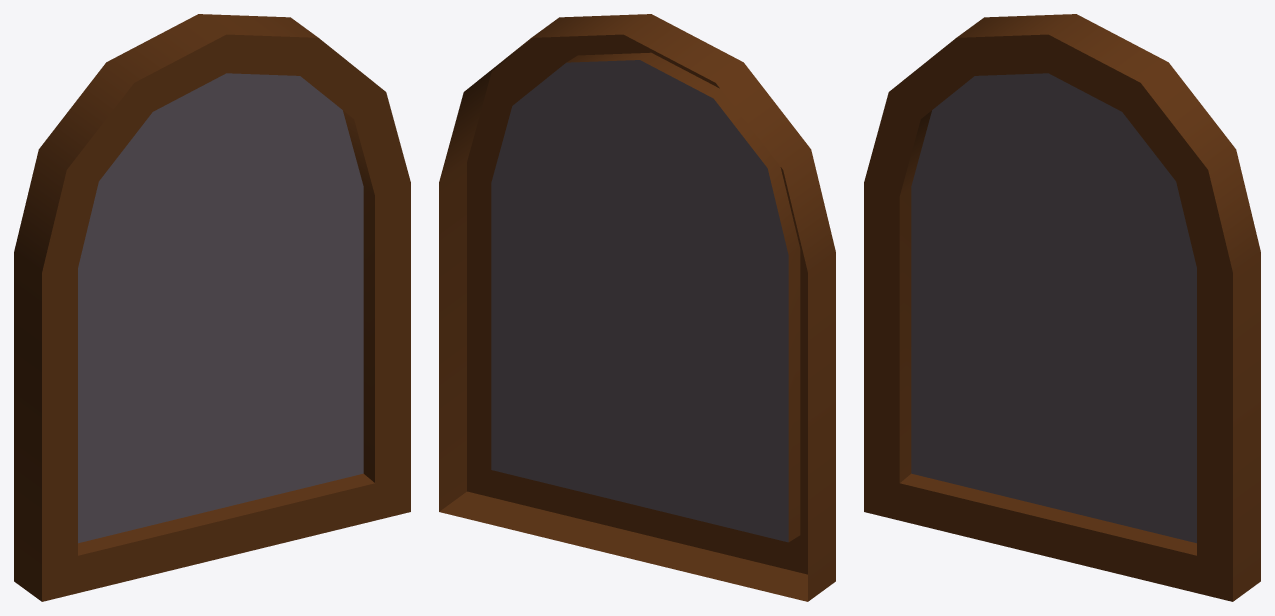
The model's file is Window_1.glb.
3 views of the same model, side by side, from view 1: azimuth 30°, elevation 25°; view 2: azimuth 150°, elevation 25°; view 3: azimuth 330°, elevation 25° (orthographic).
Parts seen in each view (by area): view 1: Window_1; view 2: Window_1; view 3: Window_1.
Part boxes in pixels (x1,y1,x2,y2): Window_1: (14, 14, 410, 601); Window_1: (439, 14, 835, 601); Window_1: (864, 14, 1260, 601).
Bounding box in the file's own units: 0.3255 × 0.4405 × 0.0429.
